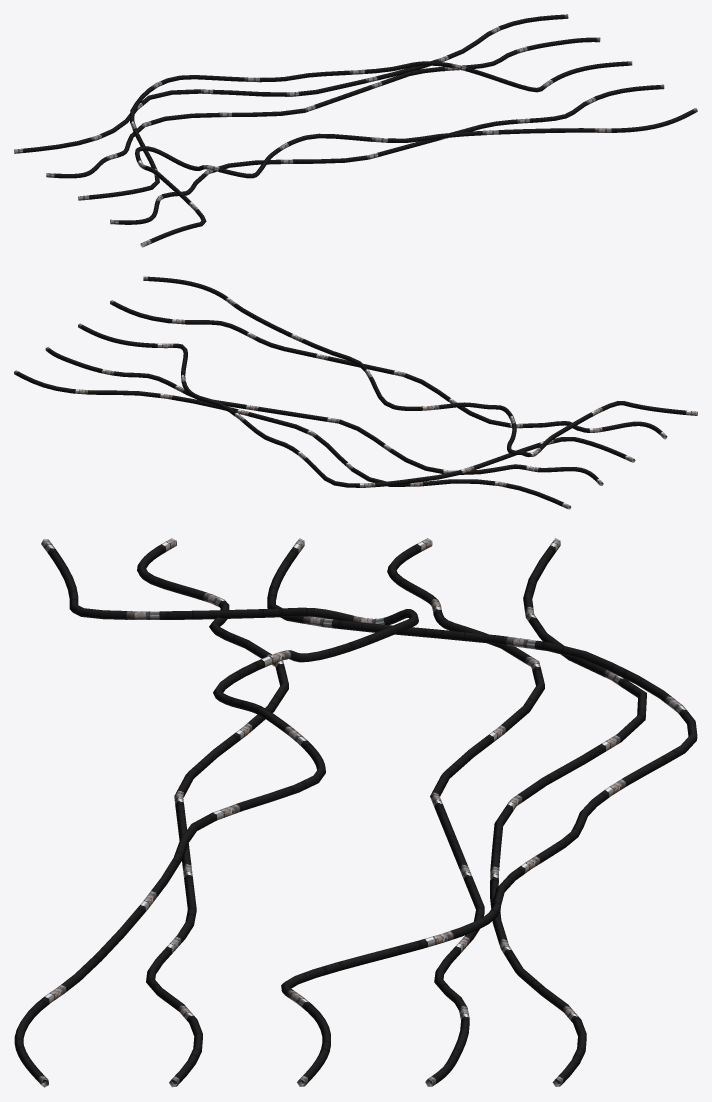
File: SM_FilsA.fbx
3 views of the same model, one above another, from view 1: azimuth 30°, elevation 25°; view 2: azimuth 150°, elevation 25°; view 3: azimuth 270°, elevation 25° (orthographic). The views are drawn at different scales.
Parts seen in each view (by area): view 1: SM_FilsA_LOD0; view 2: SM_FilsA_LOD0; view 3: SM_FilsA_LOD0.
Boxes of the visible parts, x1=… form: SM_FilsA_LOD0: x1=14, y1=14, x2=697, y2=247; SM_FilsA_LOD0: x1=14, y1=276, x2=697, y2=509; SM_FilsA_LOD0: x1=14, y1=538, x2=697, y2=1087.
Bounding box in the file's own units: 401 × 214 × 7.52.
1 material, 1 textured.
